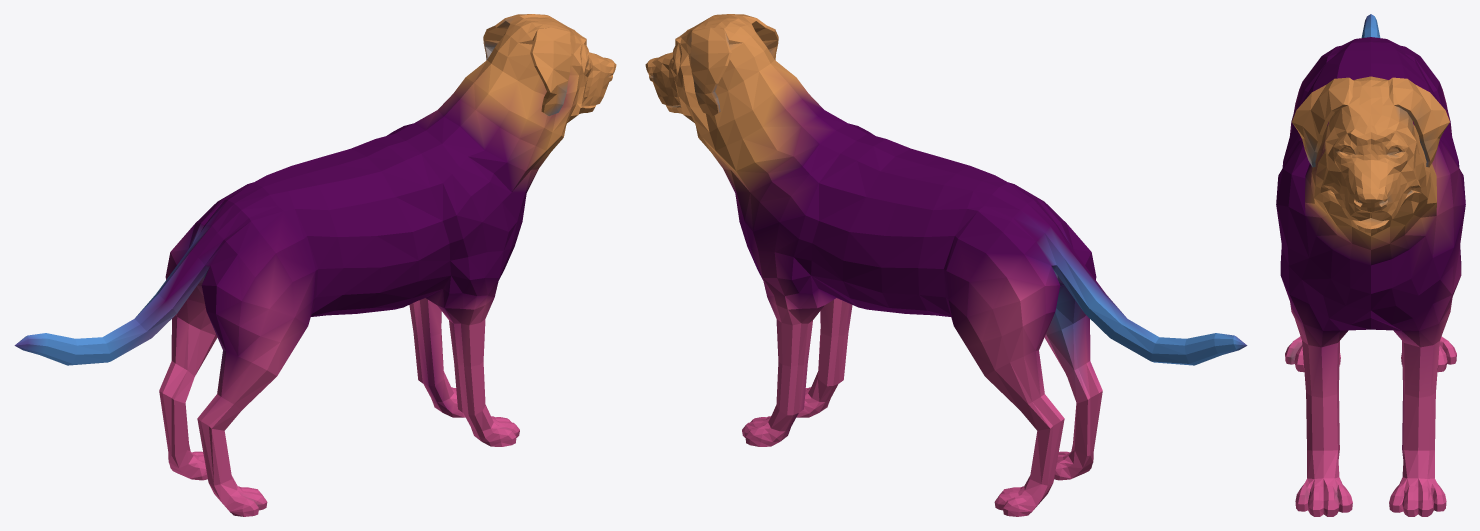
The picture shows the model from 3 angles, left to right: view 1: azimuth 30°, elevation 25°; view 2: azimuth 150°, elevation 25°; view 3: azimuth 270°, elevation 25°; orthographic projection. The views are drawn at different scales.
Parts seen in each view (by area): view 1: geometry_0.003; view 2: geometry_0.003; view 3: geometry_0.003.
Boxes of the visible parts, x1,y1,x2,y2 form: geometry_0.003: (14,14,616,516); geometry_0.003: (645,14,1247,516); geometry_0.003: (1276,14,1465,516).
Bounding box in the file's own units: 4.8 × 3 × 1.11.
